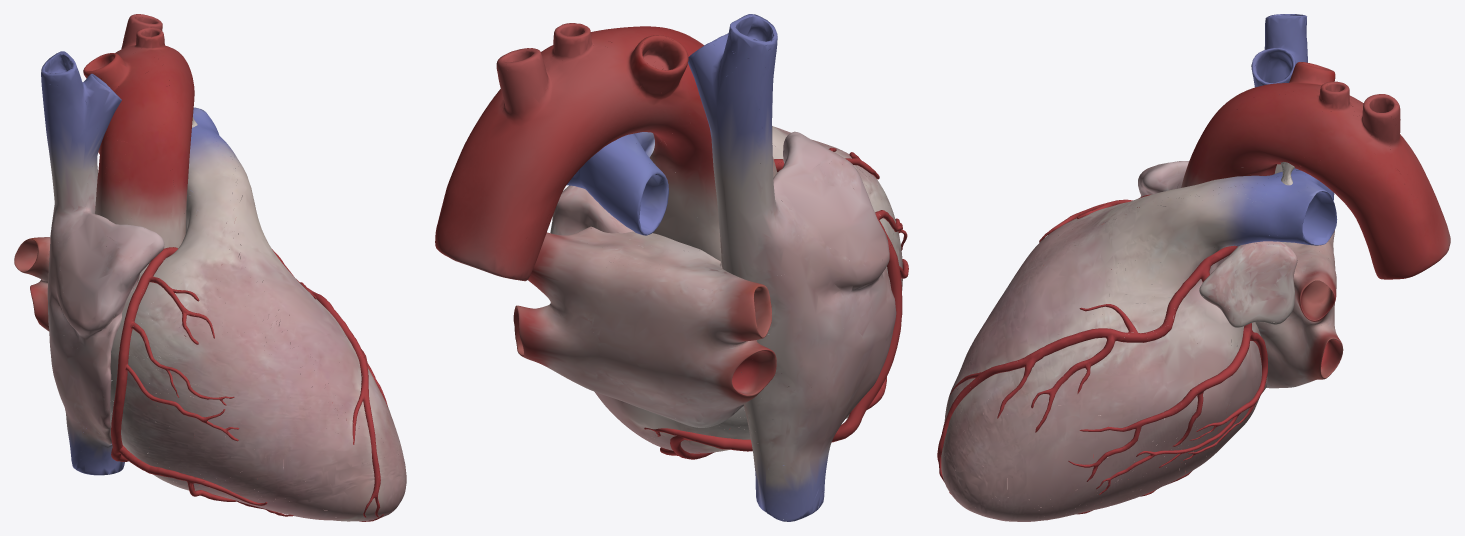
The model's file is heart.glb.
3 renders of one model, left to right at view 1: azimuth 30°, elevation 25°; view 2: azimuth 150°, elevation 25°; view 3: azimuth 270°, elevation 25°, orthographic. The views are drawn at different scales.
Parts seen in each view (by area): view 1: Object_2; view 2: Object_2; view 3: Object_2.
Part boxes in pixels (bbox=[...]): Object_2: bbox=[14, 14, 406, 521]; Object_2: bbox=[435, 14, 908, 521]; Object_2: bbox=[937, 14, 1450, 521].
Size of the model in its own units: 0.7058 by 1.1 by 1.21.
